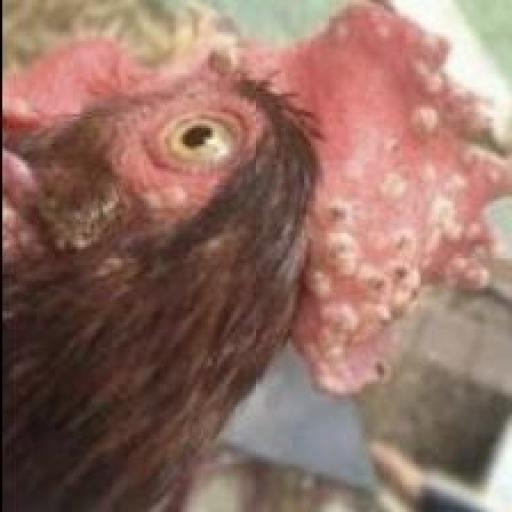disease: (267, 0, 506, 400), (128, 164, 204, 242)
